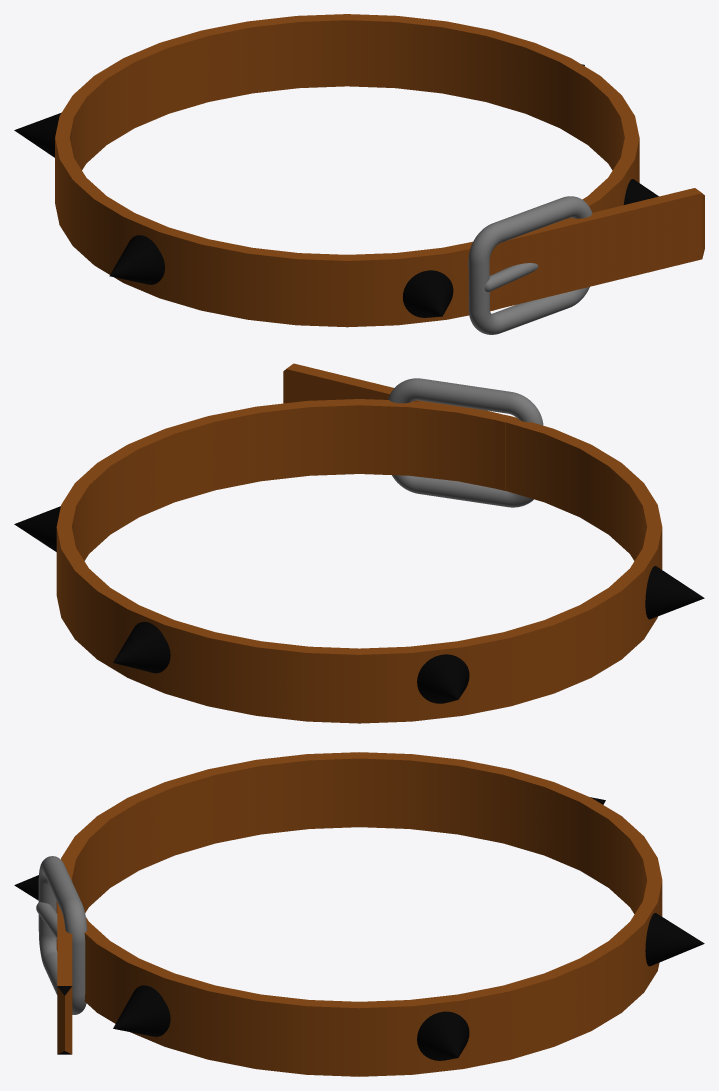
File: Dog.fbx
3 renders of one model, top to bottom at view 1: azimuth 30°, elevation 25°; view 2: azimuth 150°, elevation 25°; view 3: azimuth 270°, elevation 25°, orthographic. The views are drawn at different scales.
Parts seen in each view (by area): view 1: Röhre, Würfel, Sweep, Kegel_0, Kegel_5, Kegel_4, Kapsel, Kegel_1; view 2: Röhre, Sweep, Würfel, Kegel_4, Kegel_3, Kegel_5, Kegel_2; view 3: Röhre, Sweep, Würfel, Kegel_2, Kegel_1, Kegel_3.
Part boxes in pixels (x1,y1,x2,y2): Röhre: (55, 14, 639, 327); Würfel: (499, 188, 704, 308); Sweep: (468, 196, 592, 334); Kegel_0: (403, 270, 453, 317); Kegel_5: (109, 235, 164, 284); Kegel_4: (14, 112, 61, 157); Kapsel: (484, 263, 538, 292); Kegel_1: (623, 179, 658, 204); Röhre: (56, 399, 662, 723); Sweep: (388, 378, 543, 507); Würfel: (283, 363, 511, 490); Kegel_4: (417, 654, 469, 703); Kegel_3: (113, 622, 170, 673); Kegel_5: (645, 566, 704, 619); Kegel_2: (14, 506, 60, 551); Röhre: (56, 752, 662, 1076); Sweep: (38, 856, 87, 1014); Würfel: (57, 879, 72, 1054); Kegel_2: (417, 1011, 469, 1060); Kegel_1: (113, 985, 170, 1036); Kegel_3: (645, 913, 704, 966).
Bounding box in the file's own units: 451 × 82.81 × 456.
Materials: 1 (1 with a texture image).
